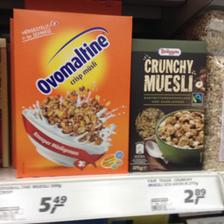Cerealien: (10, 6, 134, 174), (130, 37, 208, 172)
